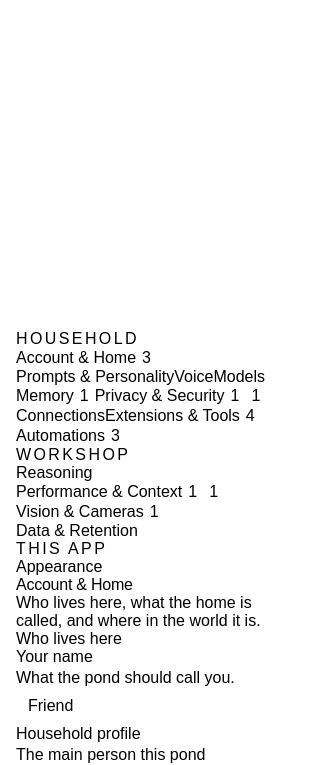
Test: SettingsCatalogue › does not offer a control that nothing reads
The width and height of the screenshot is (320, 765).
(page scrolled)
Expected: the heading "Who lives here" is shown, [16,630,122,648]
Step 1. Click the button "Privacy & Security 1 1" → point(180, 396), box [95,386,266,406]
(page scrolled)
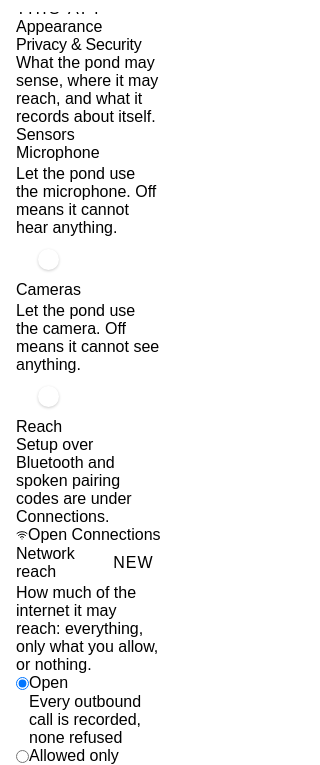
Expected: the switch named "Microphone" is enabled, [16,238,62,282]
Expected: the switch named "Cameras" is enabled, [16,374,62,418]
